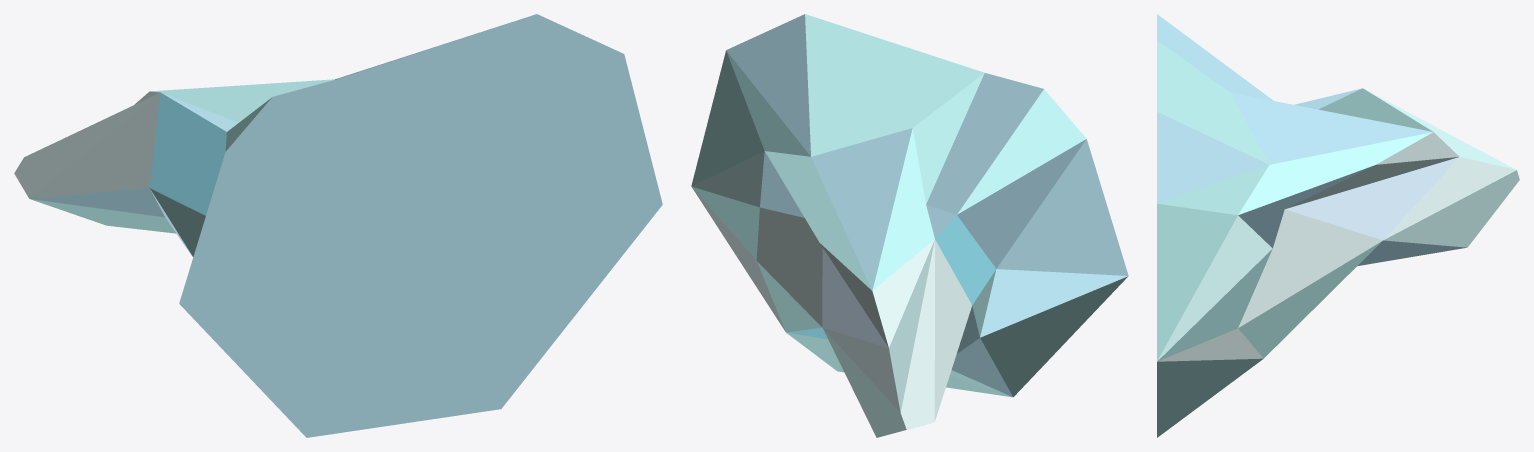
File: winter_rock_2.fbx
3 views of the same model, side by side, from view 1: azimuth 30°, elevation 25°; view 2: azimuth 150°, elevation 25°; view 3: azimuth 270°, elevation 25° (orthographic). The views are drawn at different scales.
Parts seen in each view (by area): view 1: winter_rock_2.001; view 2: winter_rock_2.001; view 3: winter_rock_2.001.
Boxes of the visible parts, <box> form: winter_rock_2.001: <box>14,14,662,437</box>; winter_rock_2.001: <box>691,14,1128,437</box>; winter_rock_2.001: <box>1157,14,1519,437</box>.
Bounding box in the file's own units: 346 × 264 × 254.
